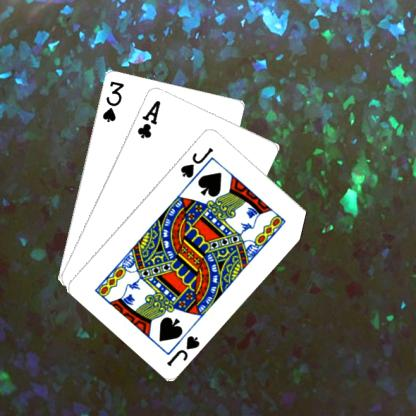3S: (99, 78, 125, 123)
AC: (134, 97, 162, 140)
JS: (164, 332, 201, 367), (178, 144, 214, 179)
